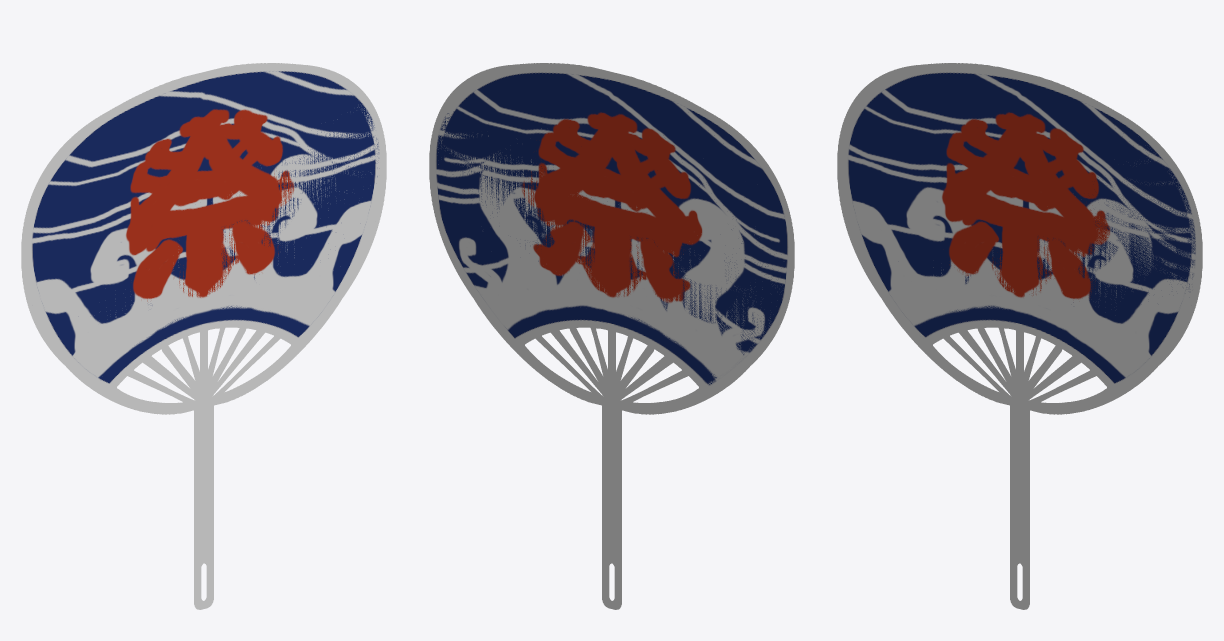
The model's file is uchiwa.fbx.
The picture shows the model from 3 angles, left to right: view 1: azimuth 30°, elevation 25°; view 2: azimuth 150°, elevation 25°; view 3: azimuth 330°, elevation 25°; orthographic projection.
Visible parts, largest first — view 1: Plane.001; view 2: Plane.001; view 3: Plane.001.
Part boxes in pixels (left/top/right/bottom): Plane.001: left=21, top=63, right=386, bottom=609; Plane.001: left=429, top=63, right=794, bottom=609; Plane.001: left=837, top=63, right=1202, bottom=609.
Bounding box in the file's own units: 10092 × 14268 × 0.00293.
1 material, 1 textured.
